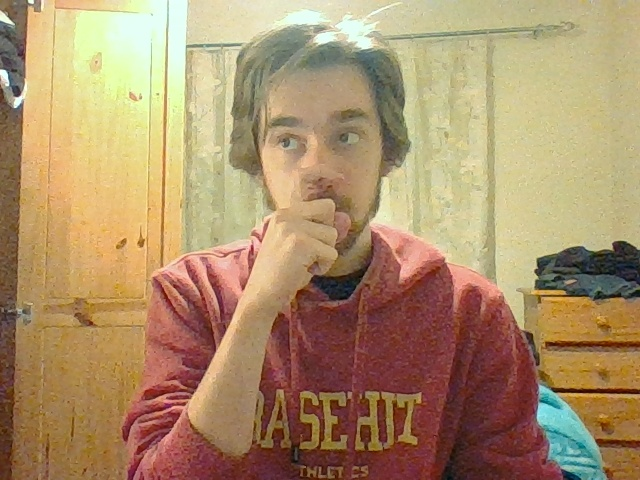sister: (264, 159, 351, 280)
